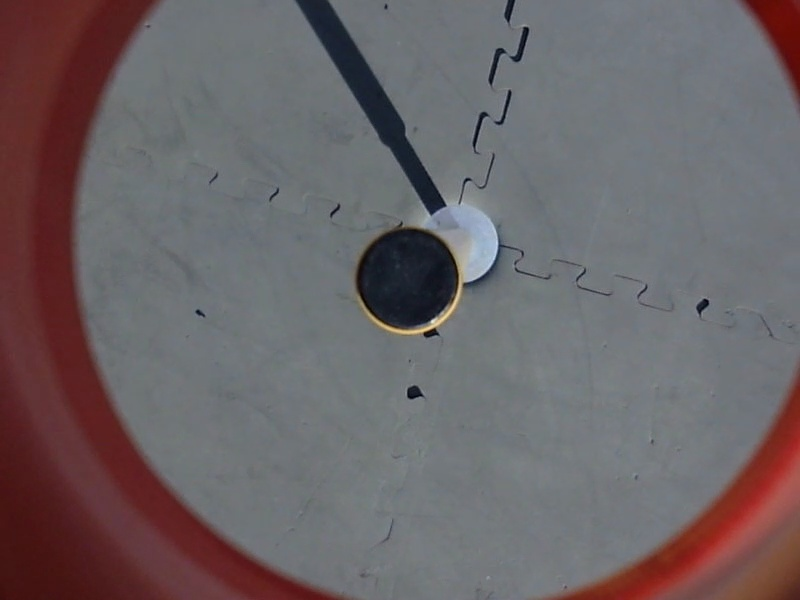tip: (349, 227, 467, 341)
